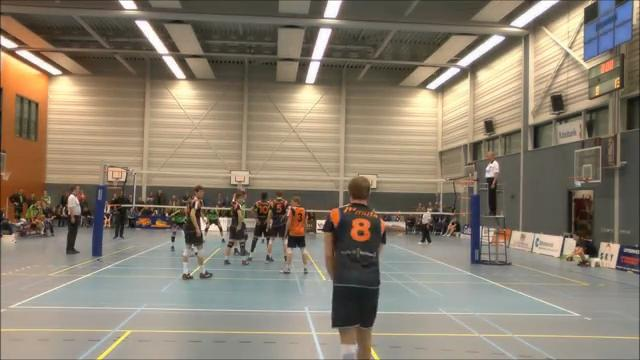Player: (323, 176, 385, 358), (182, 185, 211, 279), (282, 196, 307, 273), (248, 192, 273, 261), (224, 191, 245, 264), (267, 191, 288, 261), (170, 208, 185, 250), (205, 210, 224, 242)
